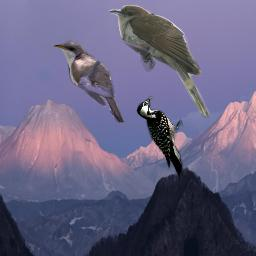Cuckoo: (109, 5, 210, 120), (52, 39, 124, 125)
Woodpecker: (136, 95, 183, 181)
